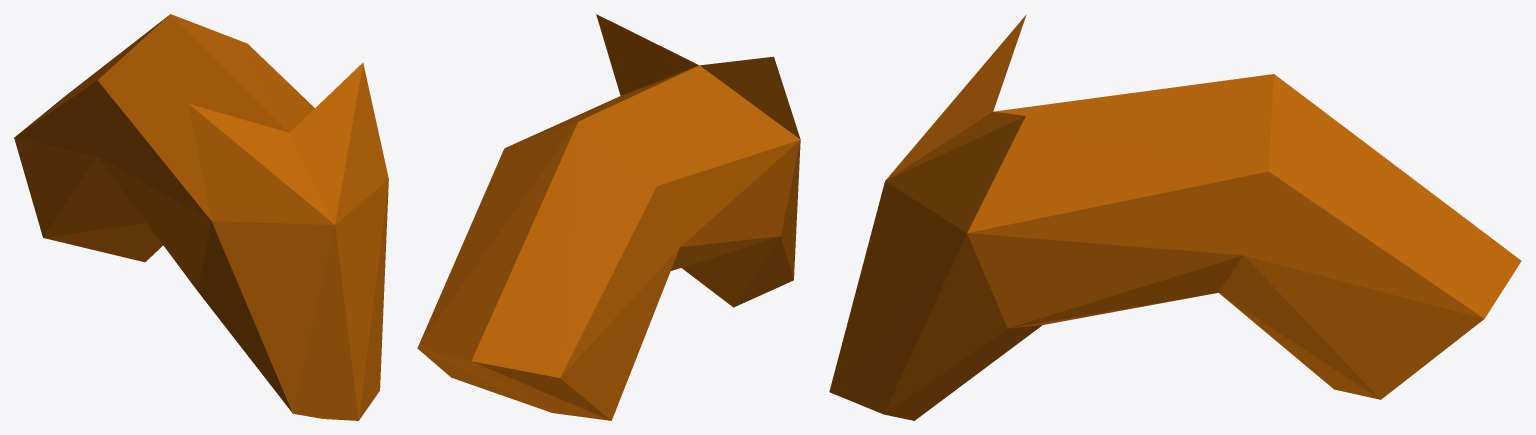
File: mdr_dragon.fbx
The picture shows the model from 3 angles, left to right: view 1: azimuth 30°, elevation 25°; view 2: azimuth 150°, elevation 25°; view 3: azimuth 270°, elevation 25°; orthographic projection. The views are drawn at different scales.
Parts seen in each view (by area): view 1: dragon_lowpoly; view 2: dragon_lowpoly; view 3: dragon_lowpoly.
Part boxes in pixels (bbox=[...]): dragon_lowpoly: bbox=[14, 14, 388, 420]; dragon_lowpoly: bbox=[417, 14, 800, 420]; dragon_lowpoly: bbox=[829, 14, 1521, 420].
Bounding box in the file's own units: 364 × 594 × 1045.
